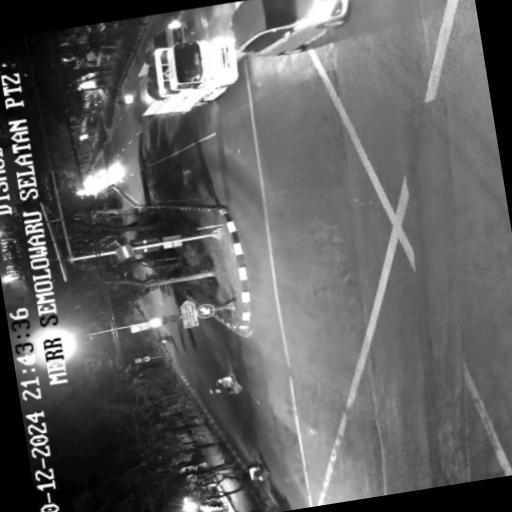car: (220, 0, 359, 60)
motorcycle: (202, 368, 252, 399), (232, 457, 274, 486), (150, 11, 192, 32), (112, 84, 139, 108)
truck: (120, 24, 249, 127)
